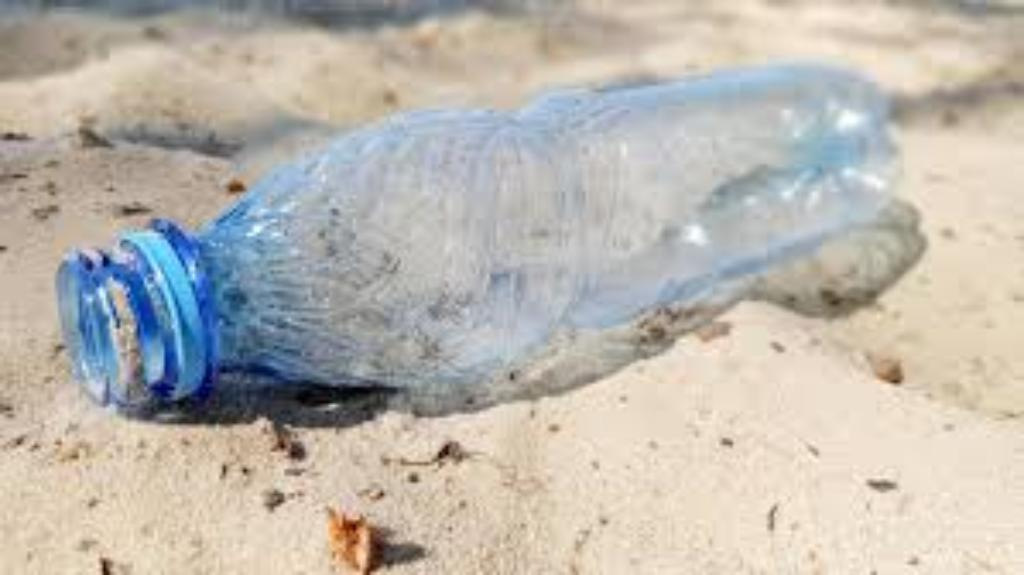garbage: (60, 45, 923, 418)
